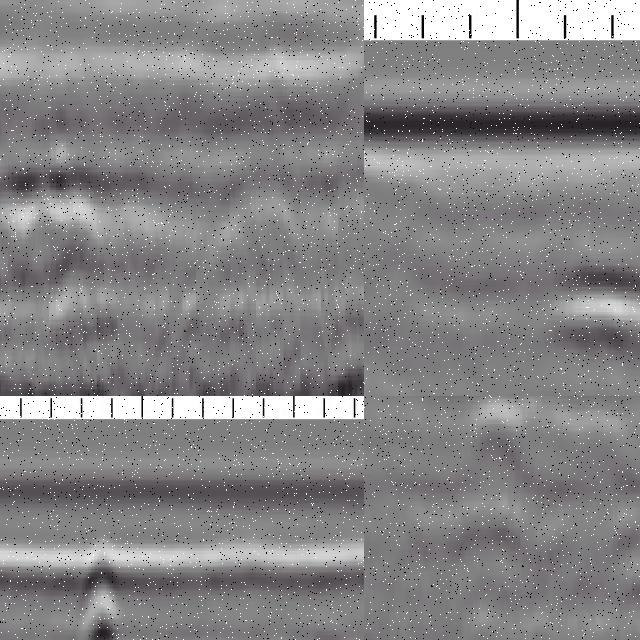crack: (79, 534, 123, 640)
loose: (365, 397, 640, 483), (1, 141, 120, 326), (546, 243, 640, 397)
